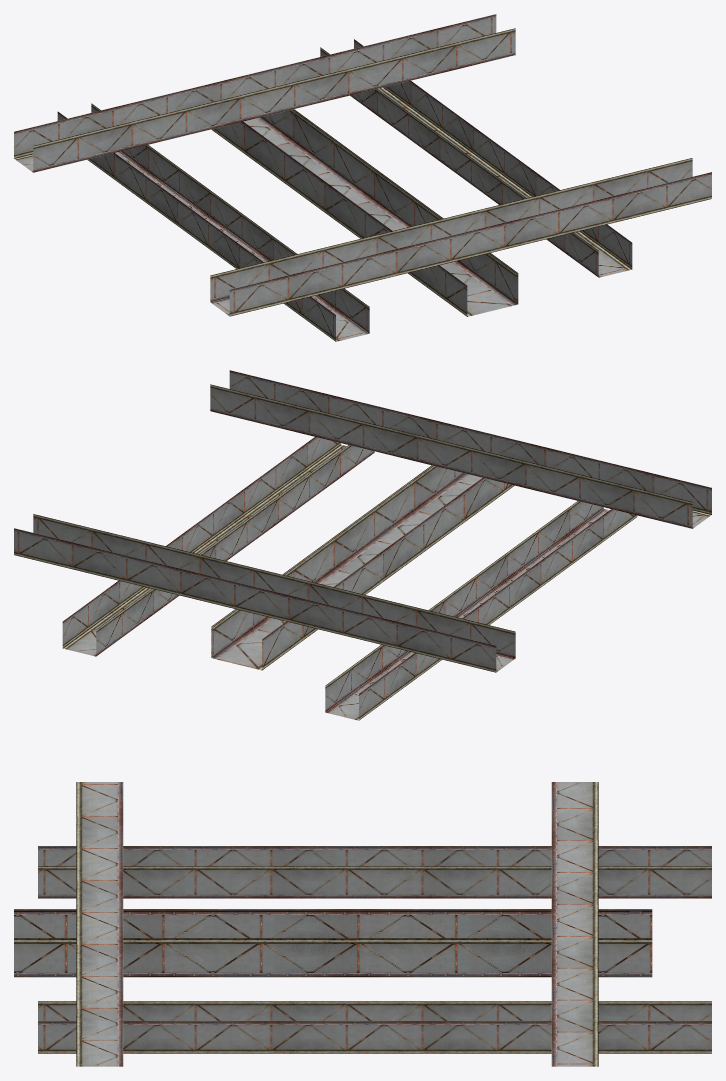
File: EQP_GIRDERS002.FBX
3 renders of one model, top to bottom at view 1: azimuth 30°, elevation 25°; view 2: azimuth 150°, elevation 25°; view 3: azimuth 270°, elevation 25°, orthographic. The views are drawn at different scales.
Visible parts, largest first — view 1: GIRDERS002; view 2: GIRDERS002; view 3: GIRDERS002.
Boxes of the visible parts, x1,y1,x2,y2 form: GIRDERS002: [14, 14, 711, 341]; GIRDERS002: [14, 370, 711, 720]; GIRDERS002: [14, 782, 711, 1066].
Size of the model in its own units: 2229 by 277 by 2309.
